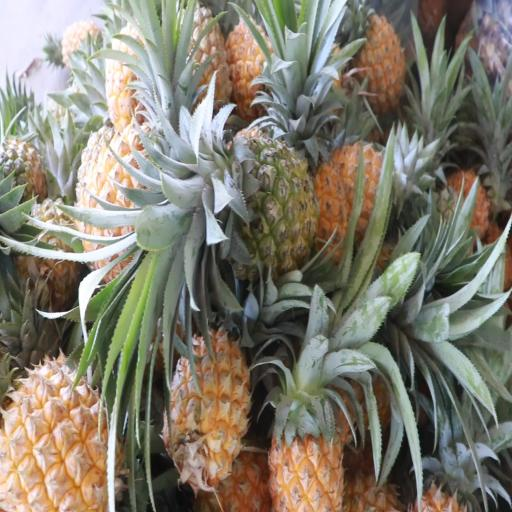Pineapple - v8 v1: (0, 355, 126, 512), (73, 126, 192, 282), (268, 328, 350, 512), (164, 326, 250, 500), (343, 12, 411, 116)
